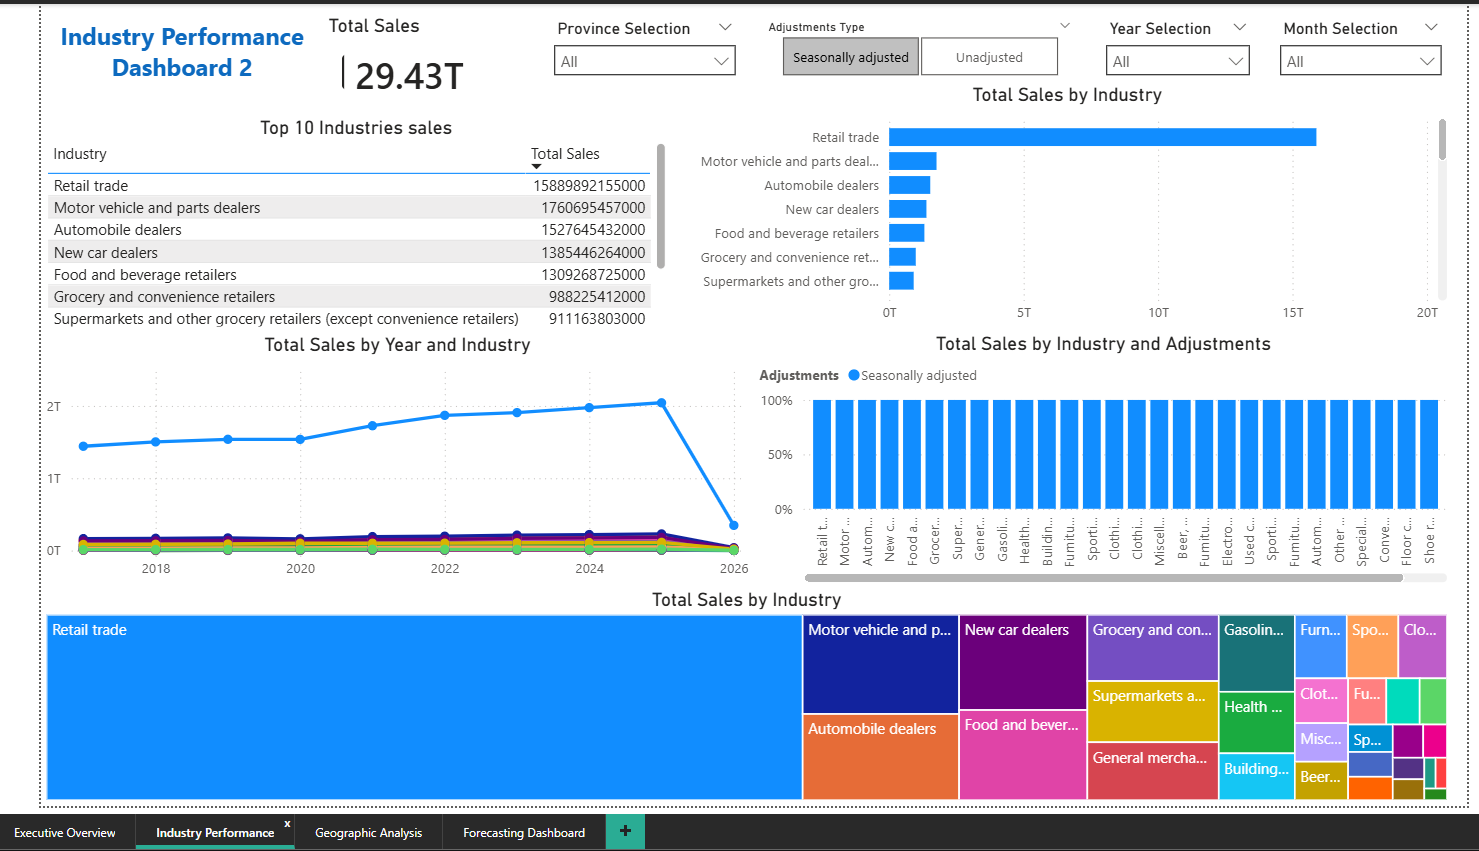

Layout of this report page (visuals, bound fields, positions):
{"tool":"powerbi","page":{"name":"Industry Performance","canvas":[1280,720],"ordinal":1},"visuals":[{"type":"slicer","fields":{"Values":["retail_sales_cleaned.Year"]},"box":[946.2,8.6,149.2,62.1],"z":0},{"type":"slicer","fields":{"Values":["retail_sales_cleaned.Month_Name"]},"box":[1102.3,8.6,164.7,62.1],"z":1000},{"type":"slicer","fields":{"Values":["retail_sales_cleaned.Adjustments"]},"box":[640,8.6,296.7,62.1],"z":2000},{"type":"tableEx","title":"Top 10 Industries sales","fields":{"Values":["retail_sales_cleaned.Industry","Sum(retail_sales_cleaned.Sales_Actual)"]},"box":[0,100.9,565.8,194.1],"z":3000},{"type":"cardVisual","title":"Total Sales","fields":{"Data":["Sum(retail_sales_cleaned.Sales_Actual)"]},"box":[253.2,9,188.5,85.3],"z":4000},{"type":"lineChart","title":"Total Sales by Year and Industry","fields":{"Category":["retail_sales_cleaned.Year"],"Y":["Sum(retail_sales_cleaned.Sales_Actual)"],"Series":["retail_sales_cleaned.Industry"]},"box":[0,295,640,229.4],"z":5000},{"type":"clusteredBarChart","title":"Total Sales by Industry","fields":{"Category":["retail_sales_cleaned.Industry"],"Y":["Sum(retail_sales_cleaned.Sales_Actual)"]},"box":[575.3,70.7,691.8,224.3],"z":6000},{"type":"hundredPercentStackedColumnChart","title":"Total Sales by Industry and Adjustments","fields":{"Category":["retail_sales_cleaned.Industry"],"Y":["Sum(retail_sales_cleaned.Sales_Actual)"],"Series":["retail_sales_cleaned.Adjustments"]},"box":[639.8,294.8,627.3,229.7],"z":7000},{"type":"treemap","title":"Total Sales by Industry","fields":{"Group":["retail_sales_cleaned.Industry"],"Values":["Sum(retail_sales_cleaned.Sales_Actual)"]},"box":[0,524.5,1267.1,195.5],"z":8000},{"type":"slicer","fields":{"Values":["retail_sales_cleaned.GEO"]},"box":[451.1,8.6,182.9,60.4],"z":9000},{"type":"textbox","box":[0,9,253.2,68.2],"z":9001}]}

Visuals, with their boxes on the page's 1280x720 design canvas (x1, y1, x2, y2). These are canvas units, not pixel positions in the 1479x851 screenshot, which may show the page scaled, cropped or inside an application window:
slicer - retail_sales_cleaned.Year: [x1=946, y1=9, x2=1095, y2=71]
slicer - retail_sales_cleaned.Month_Name: [x1=1102, y1=9, x2=1267, y2=71]
slicer - retail_sales_cleaned.Adjustments: [x1=640, y1=9, x2=937, y2=71]
"Top 10 Industries sales" tableEx: [x1=0, y1=101, x2=566, y2=295]
"Total Sales" cardVisual: [x1=253, y1=9, x2=442, y2=94]
"Total Sales by Year and Industry" lineChart: [x1=0, y1=295, x2=640, y2=524]
"Total Sales by Industry" clusteredBarChart: [x1=575, y1=71, x2=1267, y2=295]
"Total Sales by Industry and Adjustments" hundredPercentStackedColumnChart: [x1=640, y1=295, x2=1267, y2=524]
"Total Sales by Industry" treemap: [x1=0, y1=524, x2=1267, y2=720]
slicer - retail_sales_cleaned.GEO: [x1=451, y1=9, x2=634, y2=69]
textbox: [x1=0, y1=9, x2=253, y2=77]
